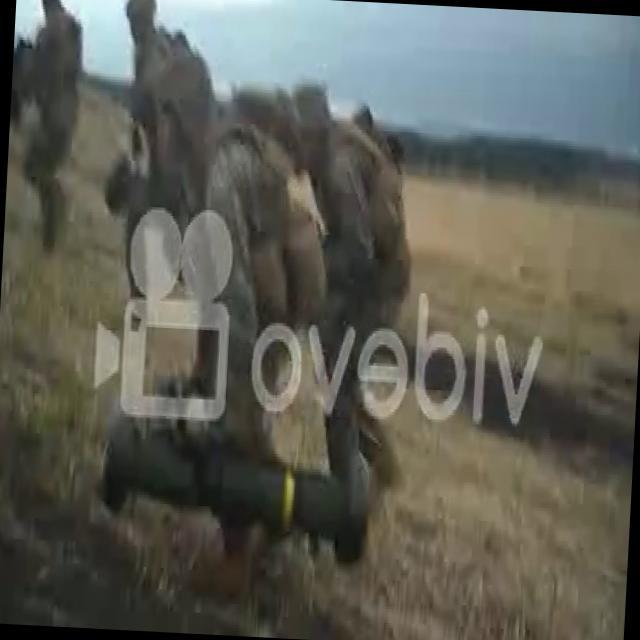rocket: (98, 422, 370, 569)
